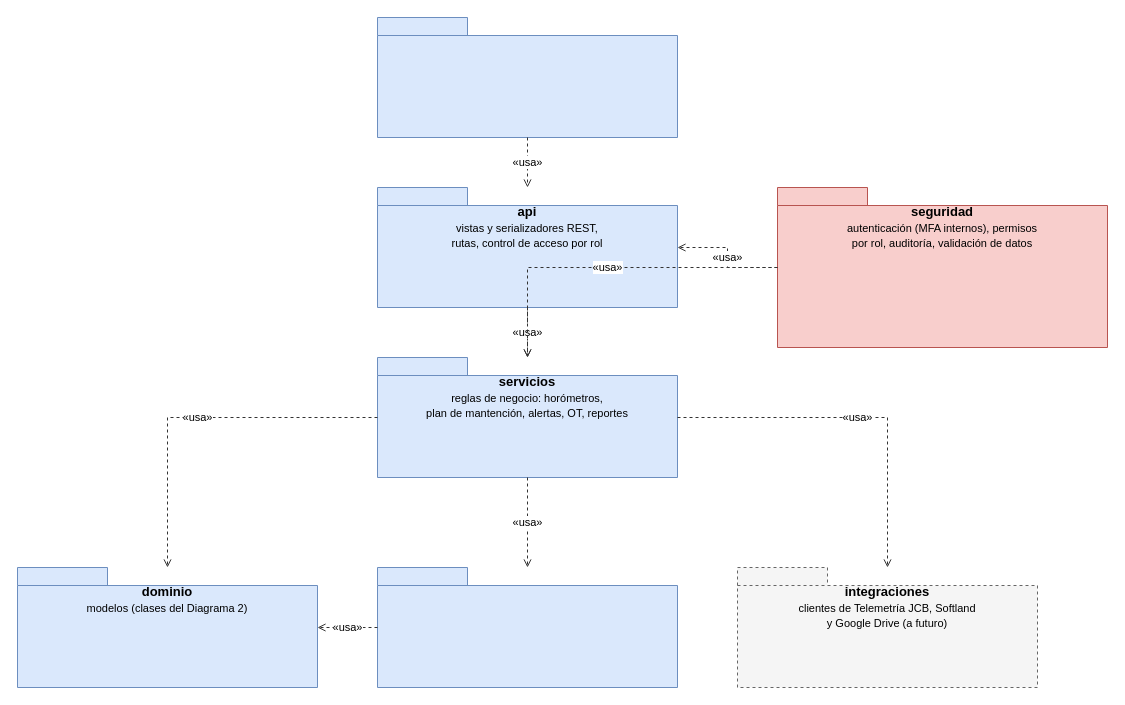
Image size: 1125x705. Some labels were removed from this diagram. The shapes that lost their labels are listed below. From the top down, each one's box as (x1, y1, x2, y2) in pixels, then its label:
(376, 16, 678, 138): presentacion plantillas HTML, estáticos, gráficos Chart.js
(376, 566, 678, 688): infraestructura acceso a MySQL, correo, almacenamiento de archivos
